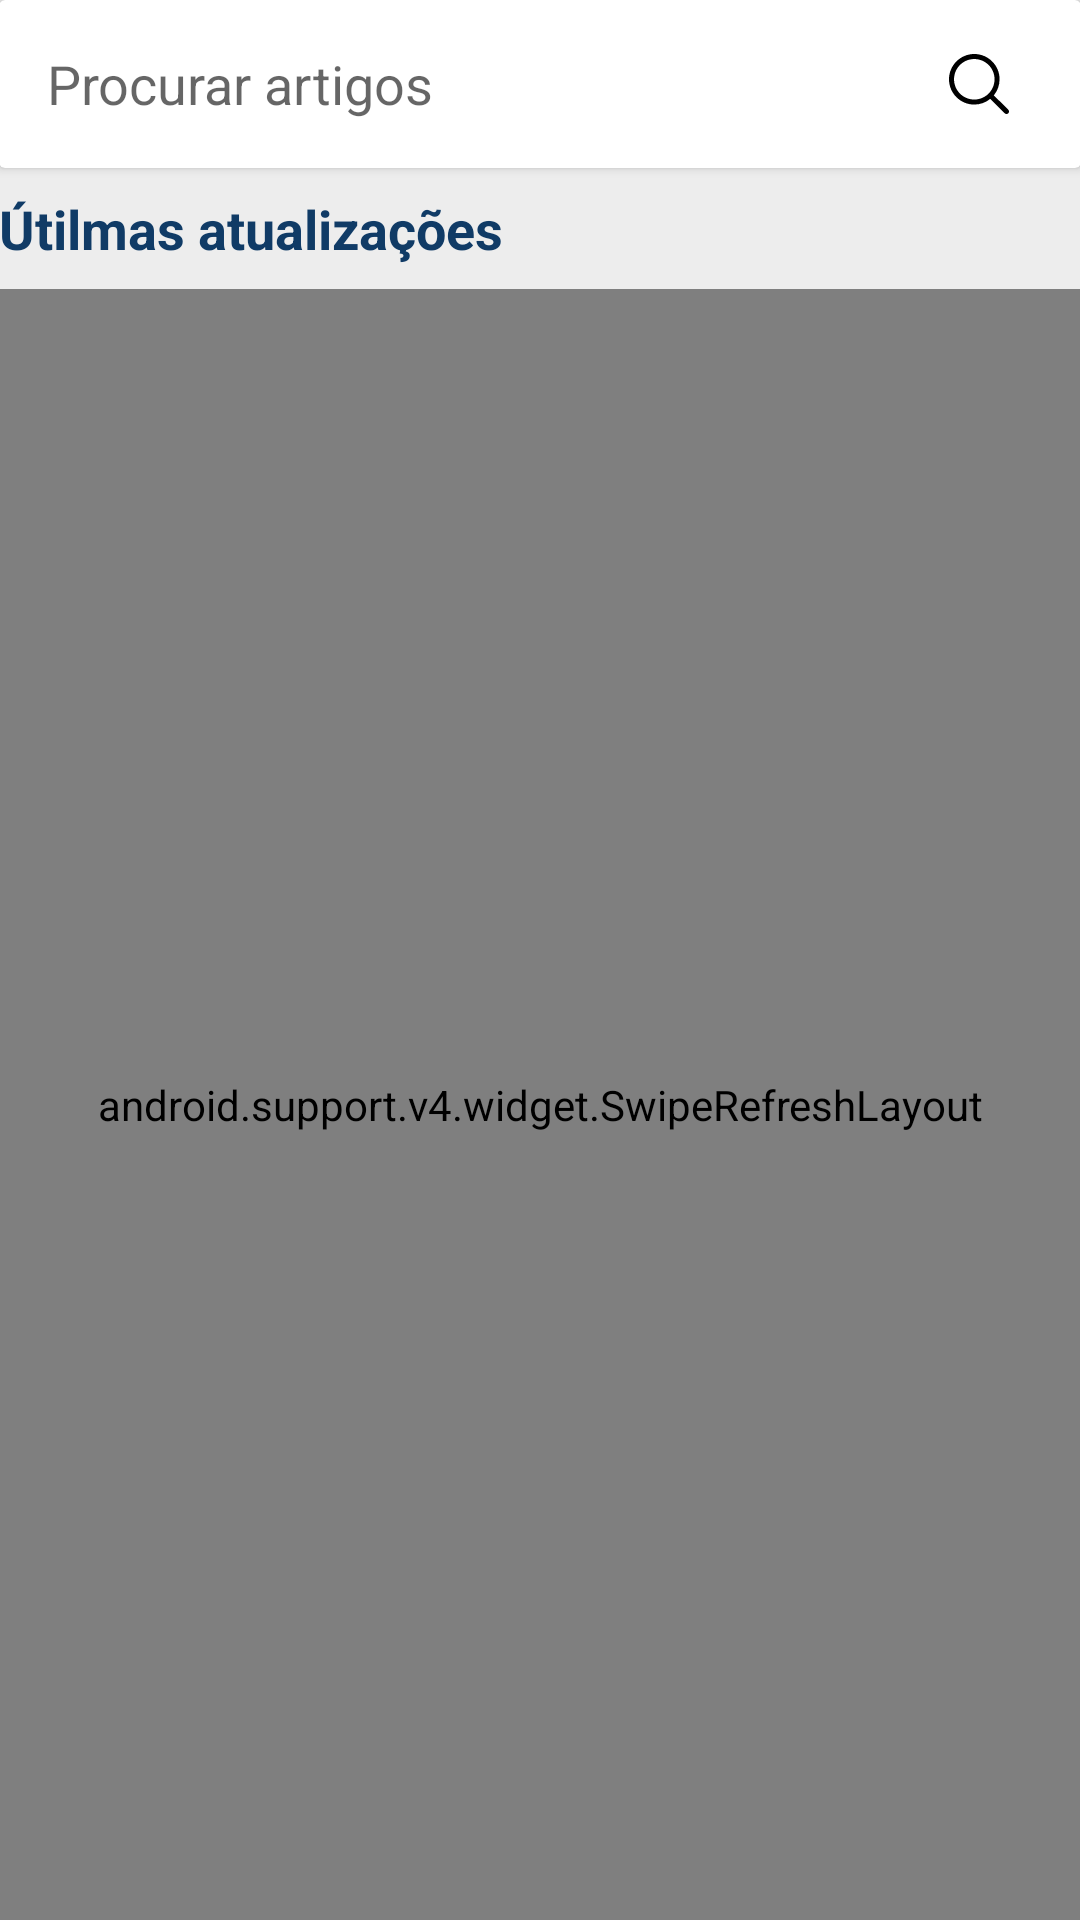

Named icons in this screenshot (1080px x 1920px) and their centers, (x,y):
Buscar: (979,84)
